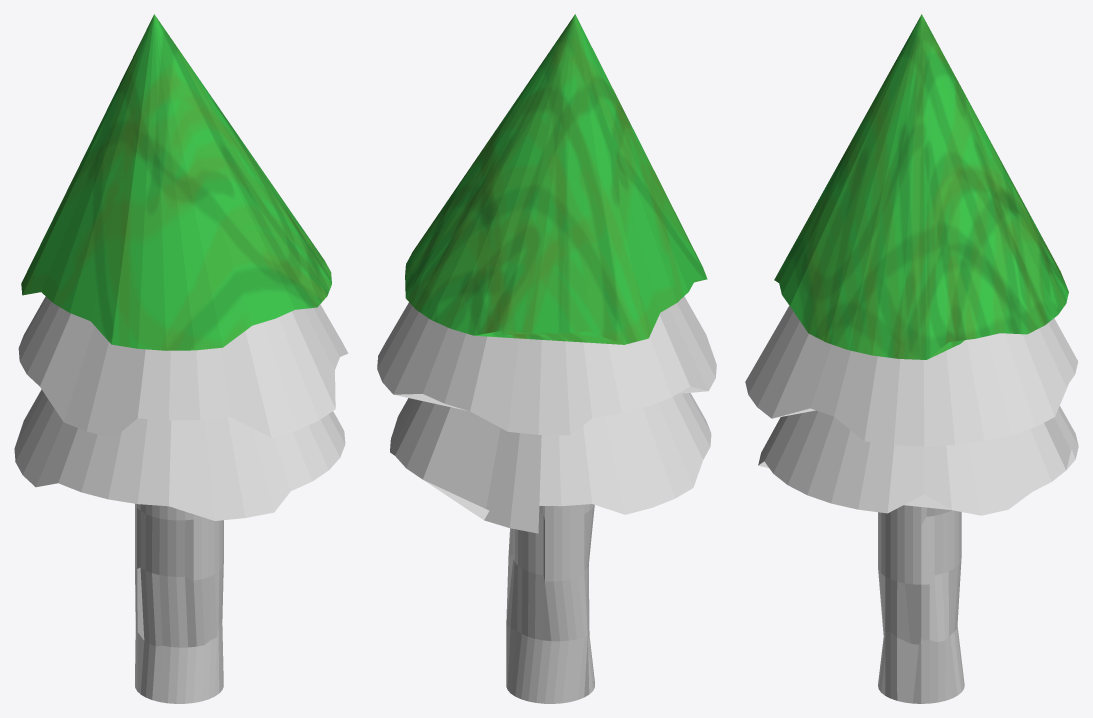
File: Tree.fbx
3 renders of one model, left to right at view 1: azimuth 30°, elevation 25°; view 2: azimuth 150°, elevation 25°; view 3: azimuth 270°, elevation 25°, orthographic. The views are drawn at different scales.
Visible parts, largest first — view 1: Cylinder.001, Cylinder.002, Cylinder.003, Cylinder; view 2: Cylinder.001, Cylinder.003, Cylinder.002, Cylinder; view 3: Cylinder.001, Cylinder.002, Cylinder.003, Cylinder.
Part boxes in pixels (bbox=[...]): Cylinder.001: bbox=[21, 14, 331, 350]; Cylinder.002: bbox=[18, 296, 348, 438]; Cylinder.003: bbox=[14, 389, 345, 520]; Cylinder: bbox=[135, 503, 223, 703]; Cylinder.001: bbox=[405, 14, 707, 344]; Cylinder.003: bbox=[390, 393, 711, 533]; Cylinder.002: bbox=[377, 296, 716, 435]; Cylinder: bbox=[506, 504, 594, 703]; Cylinder.001: bbox=[774, 14, 1068, 359]; Cylinder.002: bbox=[745, 306, 1078, 446]; Cylinder.003: bbox=[758, 406, 1078, 515]; Cylinder: bbox=[878, 505, 964, 703].
Size of the model in its own units: 359 by 790 by 362.
2 materials, 1 textured.
